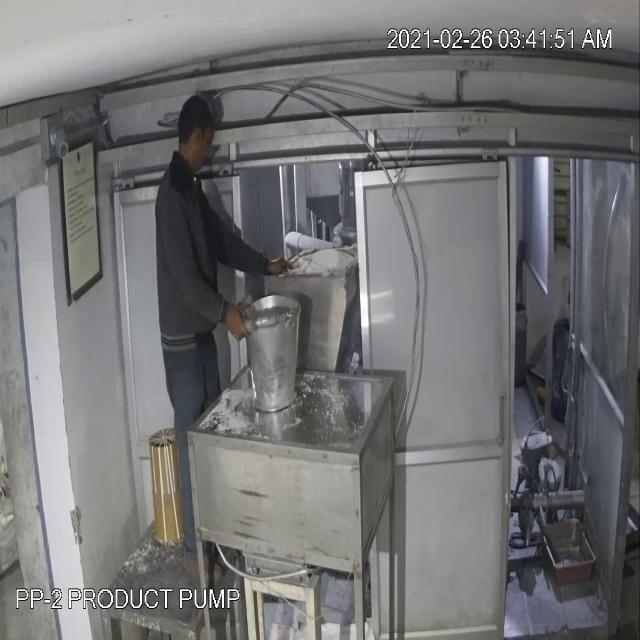no-helmet: (174, 96, 220, 174)
